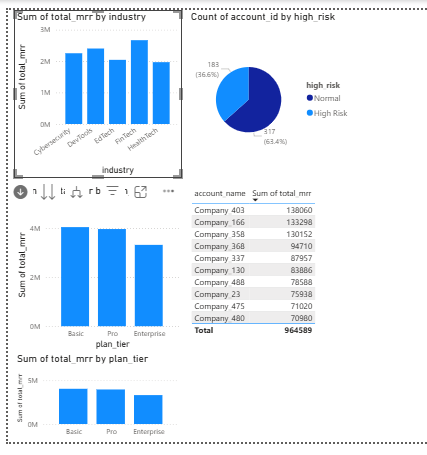

The dashboard page shown, as its layout file describes it:
{"tool":"powerbi","page":{"name":"Page 2Advanced DashboardAdvanced Dashboard","canvas":[1280,720],"ordinal":1},"visuals":[{"type":"clusteredColumnChart","fields":{"Category":["analytics_base.industry","analytics_base.account_name"],"Y":["Sum(analytics_base.total_mrr)"]},"box":[10,0,280,280],"z":0},{"type":"clusteredColumnChart","fields":{"Category":["analytics_base.plan_tier"],"Y":["Sum(analytics_base.total_mrr)"]},"box":[10,290,280,280],"z":1000},{"type":"clusteredColumnChart","fields":{"Category":["analytics_base.plan_tier"],"Y":["Sum(analytics_base.total_mrr)"]},"box":[10,570,280,150],"z":2000},{"type":"pieChart","fields":{"Category":["analytics_base.high_risk"],"Y":["CountNonNull(analytics_base.account_id)"]},"box":[300,0,280,280],"z":3000},{"type":"tableEx","fields":{"Values":["analytics_base.account_name","Sum(analytics_base.total_mrr)"]},"box":[300,290,280,280],"z":3001}]}

Visuals, with their boxes on the page's 1280x720 design canvas (x1, y1, x2, y2). These are canvas units, not pixel positions in the 427x455 screenshot, which may show the page scaled, cropped or inside an application window:
clusteredColumnChart - analytics_base.industry x analytics_base.account_name: bbox=[10, 0, 290, 280]
clusteredColumnChart - analytics_base.plan_tier x Sum(analytics_base.total_mrr): bbox=[10, 290, 290, 570]
clusteredColumnChart - analytics_base.plan_tier x Sum(analytics_base.total_mrr): bbox=[10, 570, 290, 720]
pieChart - analytics_base.high_risk x CountNonNull(analytics_base.account_id): bbox=[300, 0, 580, 280]
tableEx - analytics_base.account_name x Sum(analytics_base.total_mrr): bbox=[300, 290, 580, 570]
